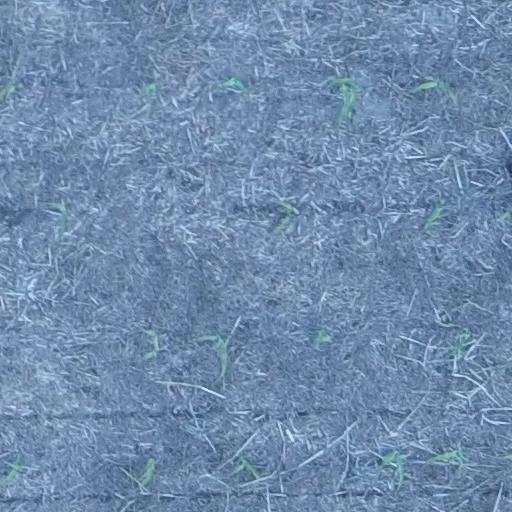planta: (324, 74, 363, 122), (411, 76, 457, 105), (194, 333, 229, 371), (378, 449, 405, 490), (272, 199, 295, 232), (423, 198, 445, 229), (448, 328, 471, 356), (233, 457, 260, 479), (426, 448, 465, 463), (142, 328, 159, 359), (139, 459, 157, 487), (221, 76, 248, 93), (55, 202, 68, 233)
